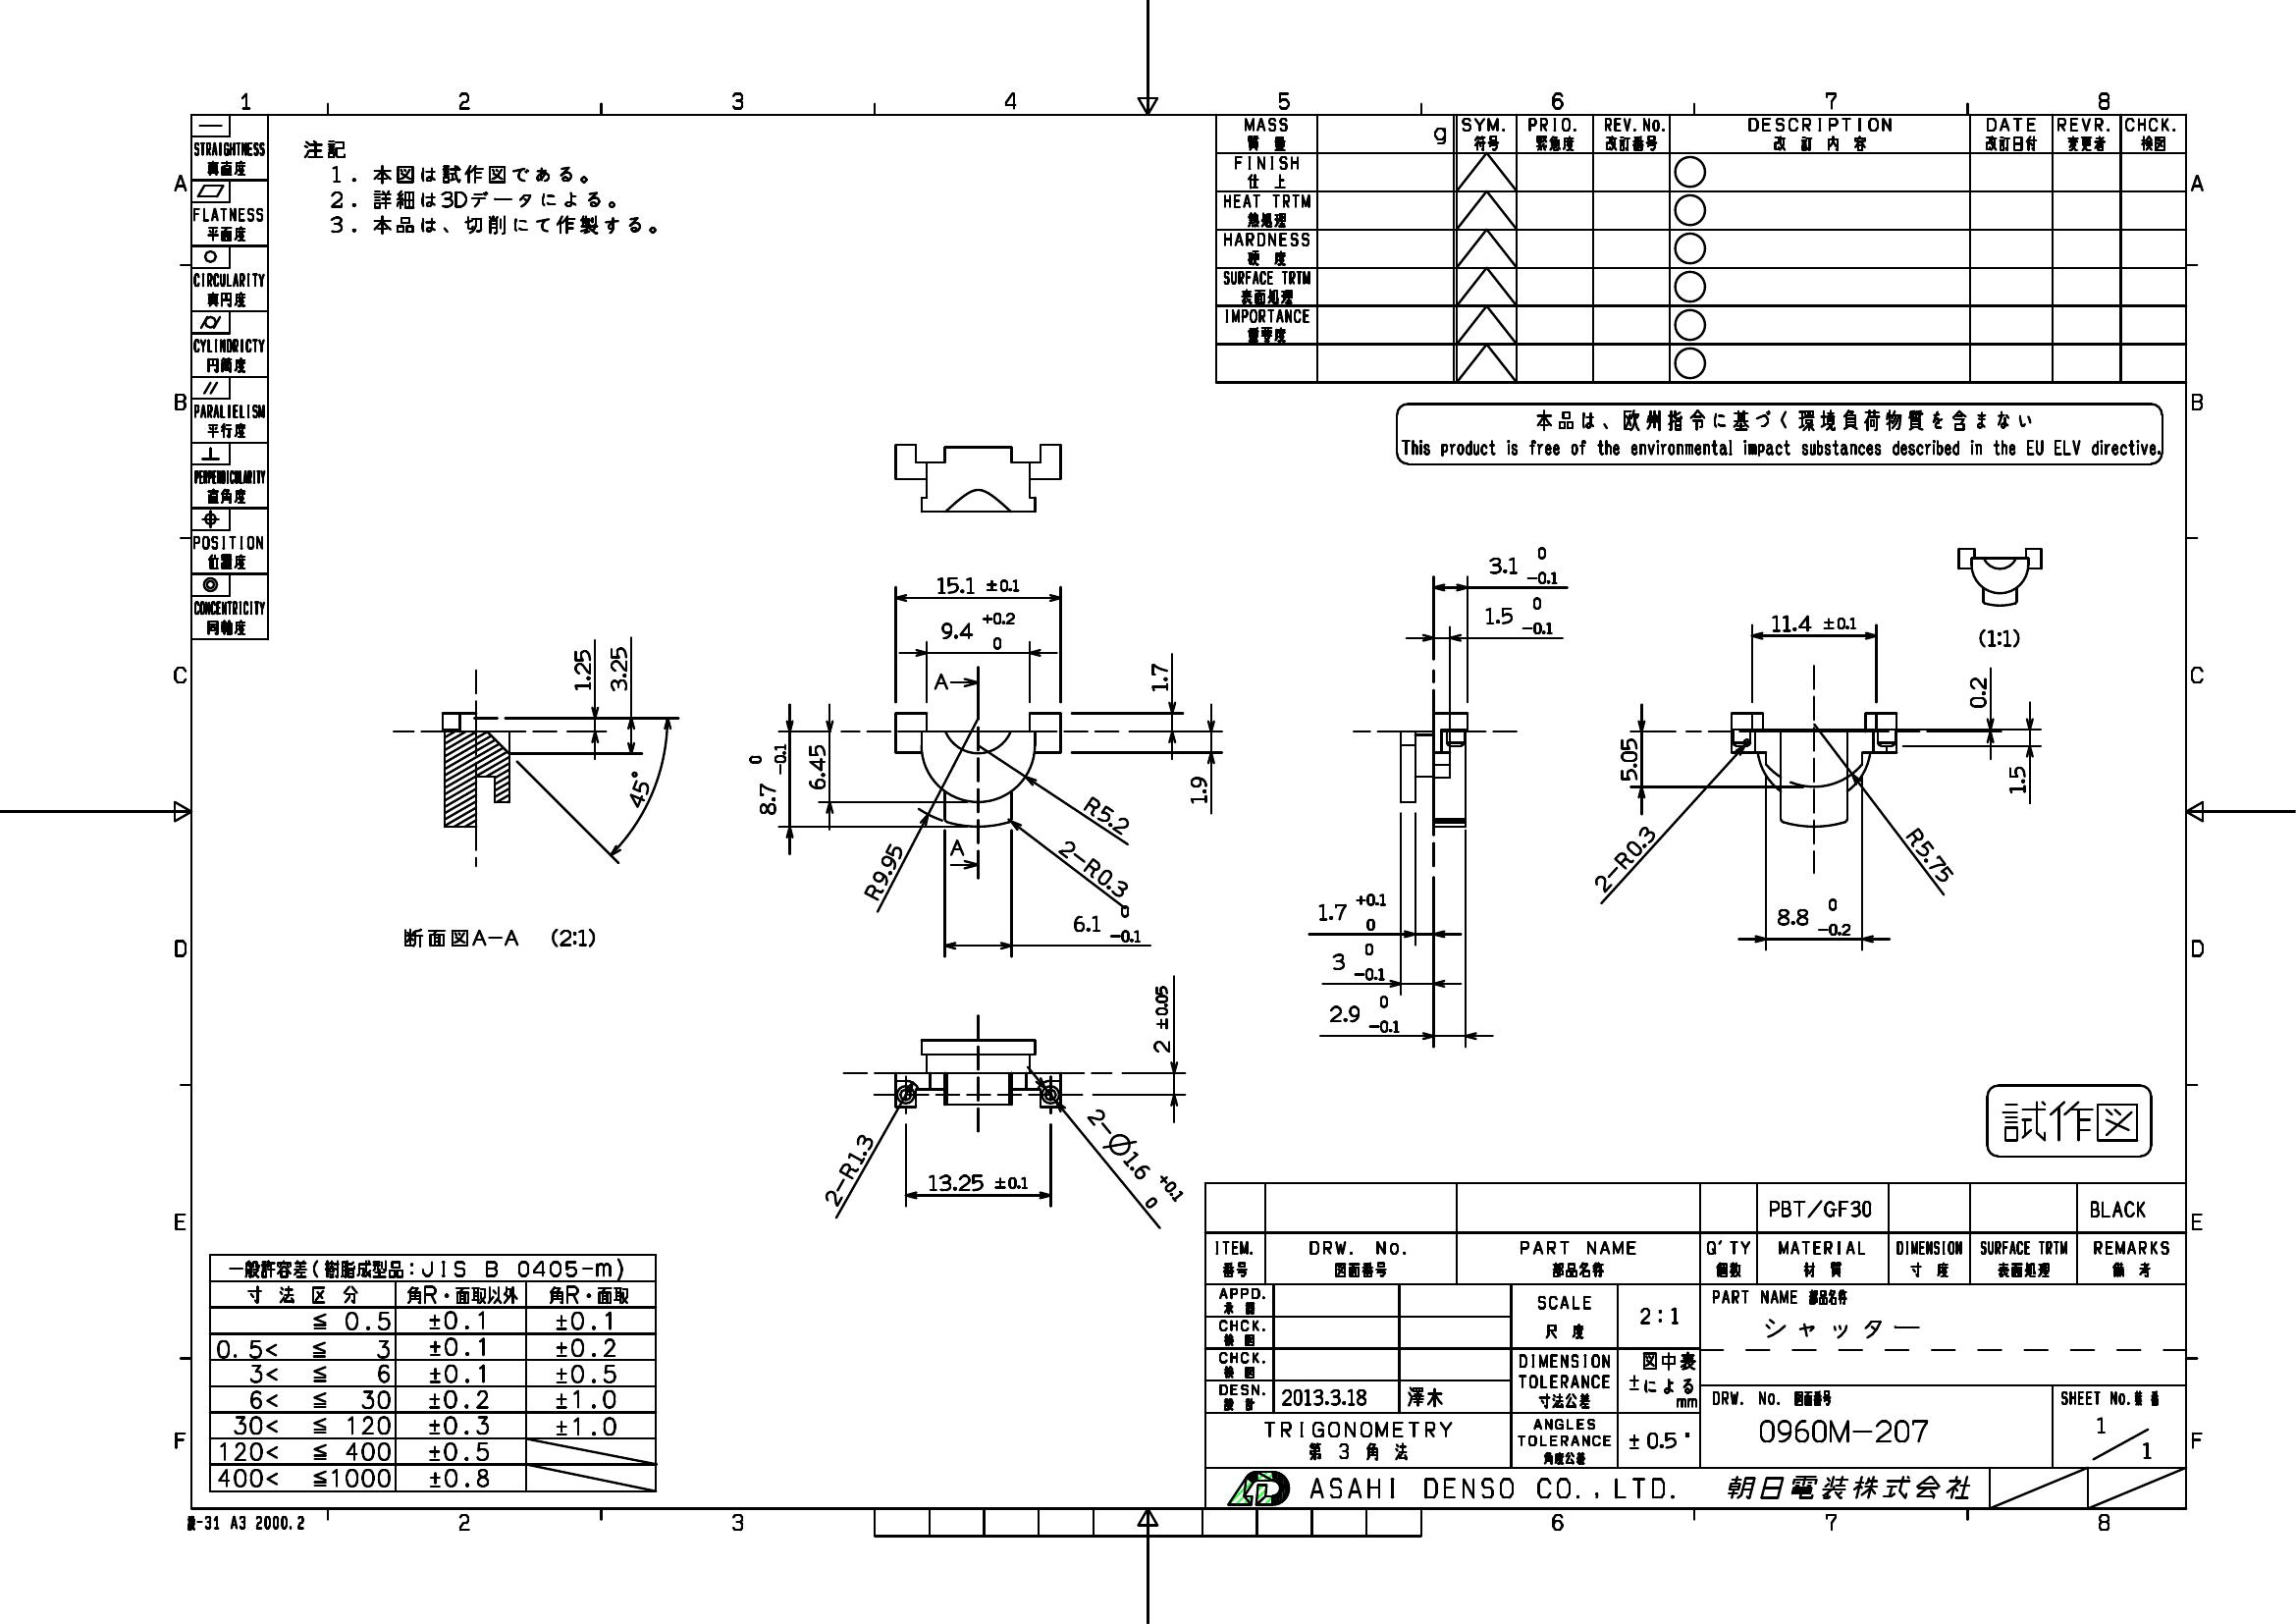anntotation_text: (1395, 401, 2164, 464), (299, 137, 662, 239), (1985, 1083, 2150, 1156), (401, 923, 599, 953), (186, 1513, 309, 1531), (1976, 627, 2022, 649), (931, 670, 949, 691), (949, 838, 964, 858)
dimension_text: (1066, 1137, 1198, 1179), (1484, 543, 1560, 585), (1314, 889, 1388, 932), (1774, 896, 1852, 935), (747, 742, 787, 816), (942, 610, 1015, 650), (1484, 594, 1556, 634), (1330, 993, 1400, 1033), (926, 1171, 1031, 1193), (1333, 940, 1390, 982), (1073, 914, 1142, 944), (1767, 612, 1855, 633), (936, 575, 1021, 596), (1897, 842, 1966, 866), (808, 1158, 887, 1179), (1051, 858, 1135, 877), (1583, 849, 1665, 868), (1151, 982, 1172, 1055), (606, 645, 629, 692), (571, 645, 594, 691), (806, 742, 827, 791), (1080, 805, 1133, 824), (1616, 735, 1637, 782), (625, 773, 648, 808), (1967, 673, 1989, 710), (1147, 659, 1170, 692), (2006, 765, 2027, 796), (1188, 773, 1209, 805)
object: (894, 712, 1063, 828), (1730, 710, 1897, 826), (892, 445, 1063, 513), (1400, 712, 1469, 826), (441, 712, 509, 826), (921, 1039, 1036, 1106), (1957, 547, 2041, 606)
title_block: (1205, 1183, 2187, 1508), (1216, 116, 2185, 383), (209, 1253, 657, 1490), (191, 112, 269, 638)
